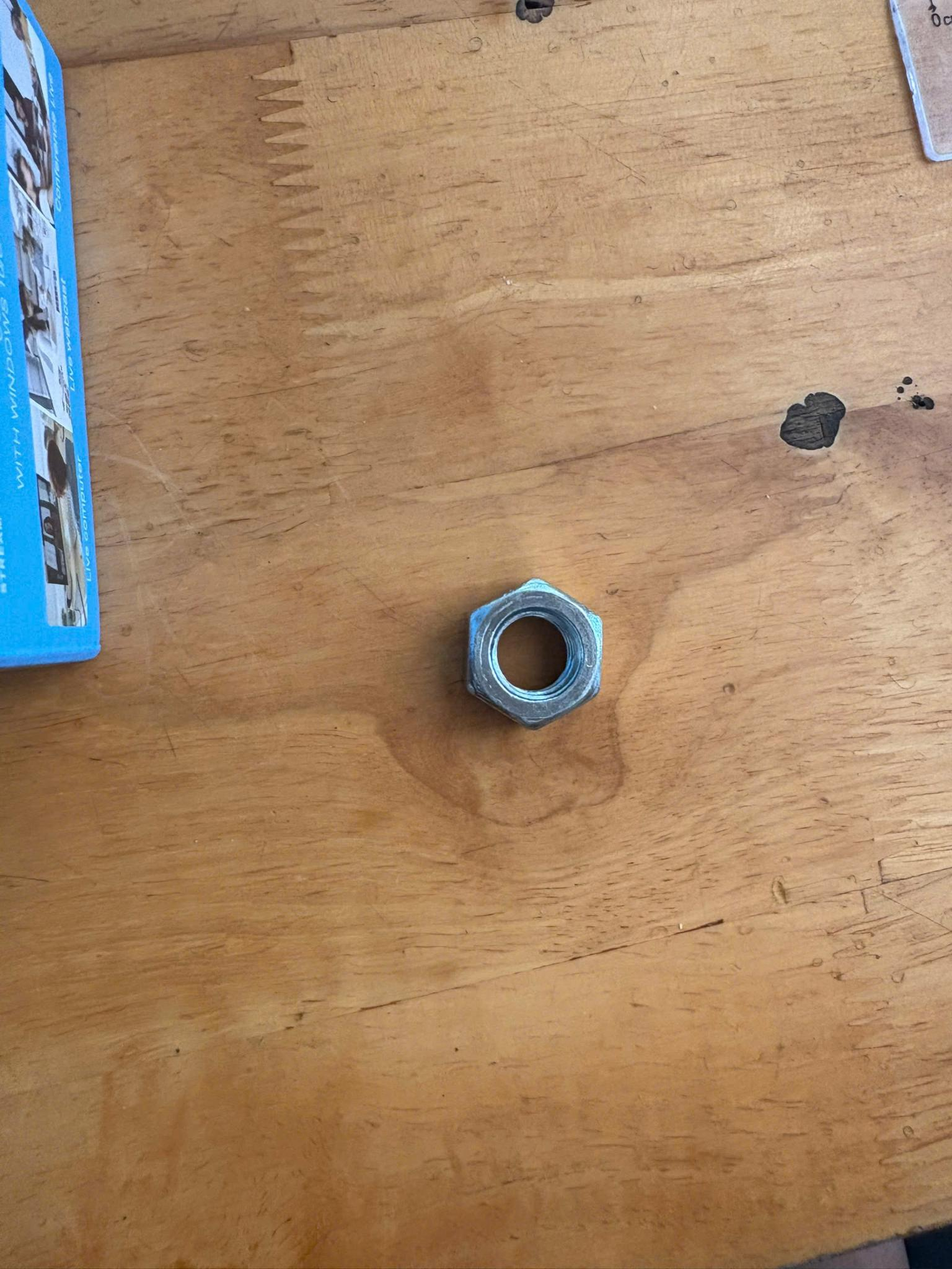nut: (436, 566, 621, 746)
